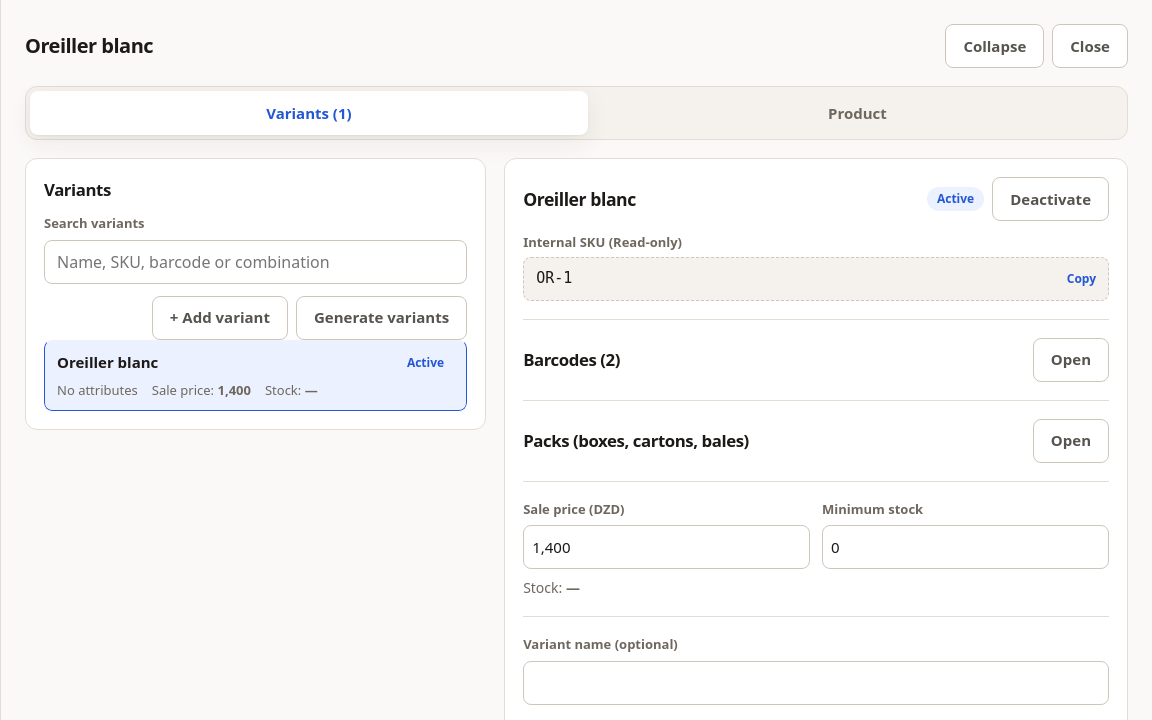
Test case: O-2.4 — Hide pack barcodes from variant piece barcode list › filters out pack barcodes and displays the note pack.barcodesElsewhere
// Expand barcodes section
Step 1. Click the button with test id "catalog2-barcodes-toggle-10" → (1071, 360), box [1033, 338, 1109, 382]
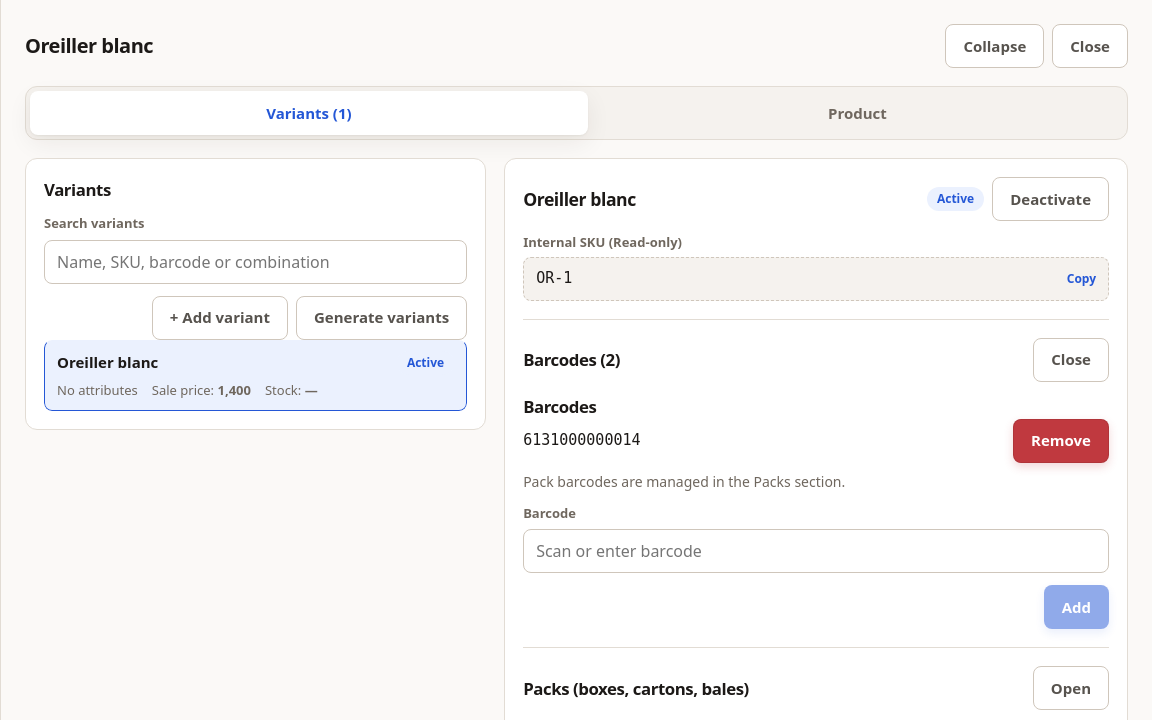
Expected: the text "6131000000014" is shown, [523, 431, 640, 449]
Expected: the text with test id "pack-barcodes-elsewhere" reads "Pack barcodes are managed in the Packs section.", [523, 472, 845, 491]
